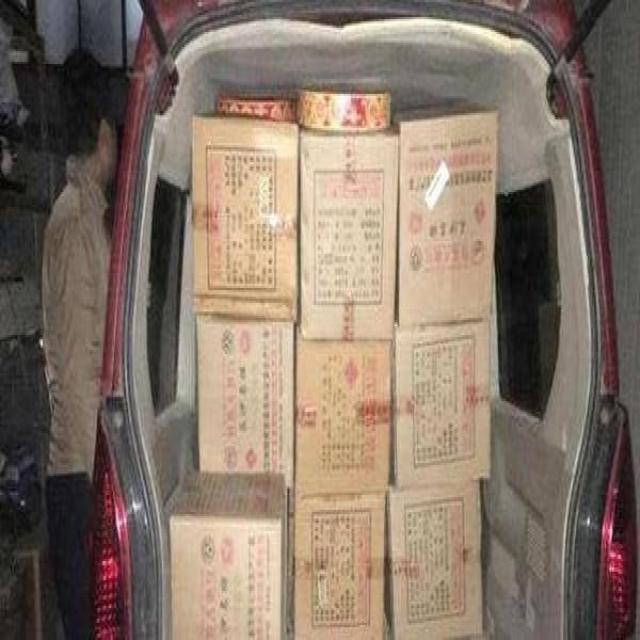box: (395, 98, 499, 331), (192, 117, 299, 320), (301, 126, 399, 341), (167, 469, 287, 640), (195, 318, 293, 493), (393, 320, 490, 489), (387, 478, 483, 640), (294, 341, 393, 497), (294, 495, 385, 640)
